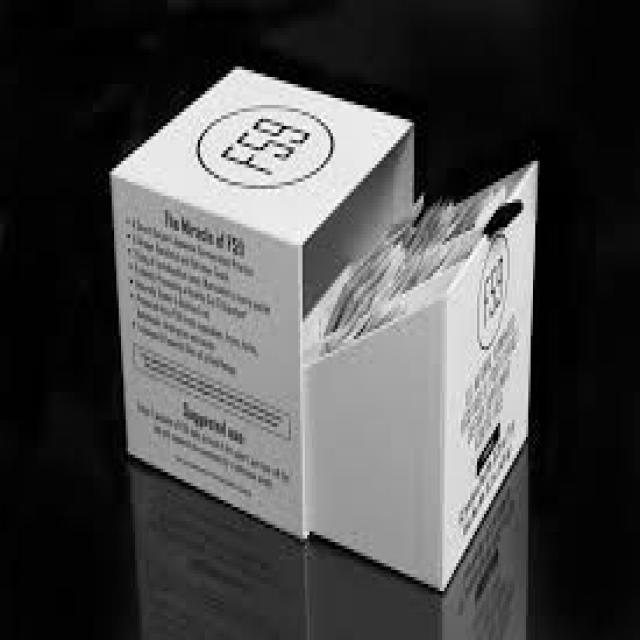tear: (298, 128, 486, 352)
